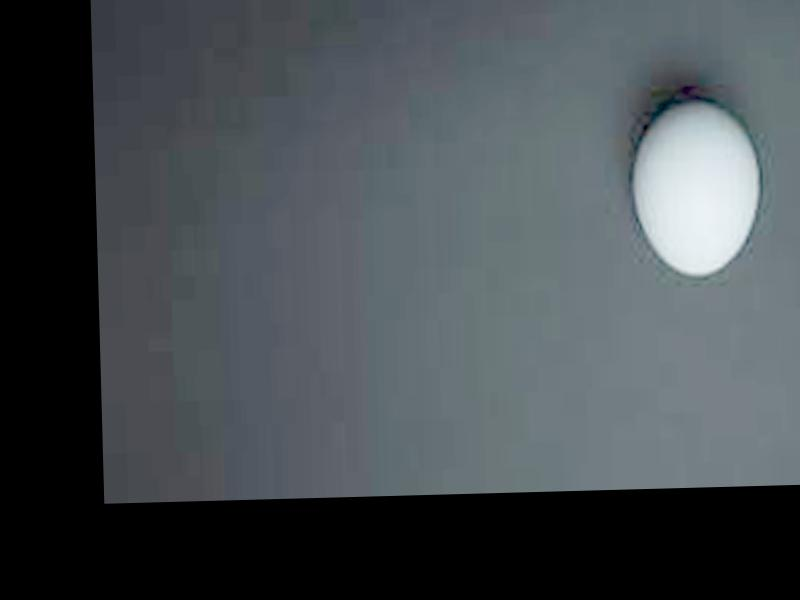Eggs: (632, 102, 764, 278)
